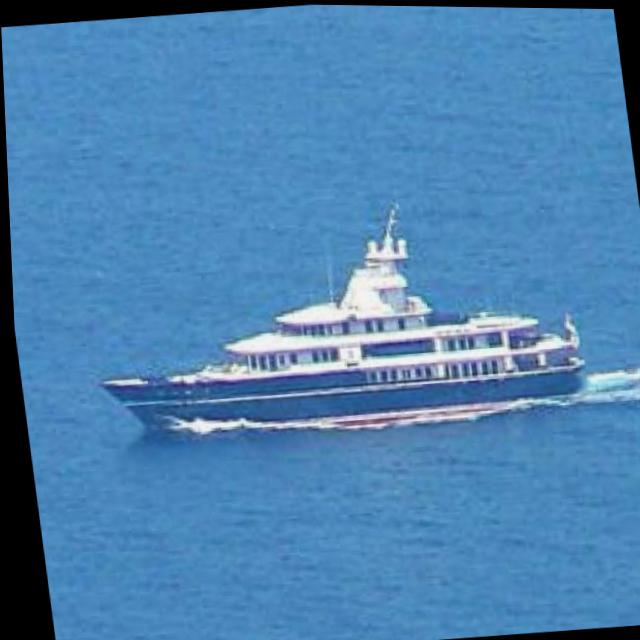ship2: (96, 207, 579, 435)
